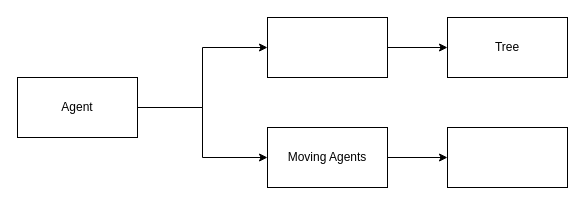
The diagram is 585 pixels wide and 205 high, and some of its shapes have lost their labels. The box of each missing label's shape, as (x1, y1, x2, y2) in pixels:
Plane: (446, 126, 568, 188)
Scenery: (266, 16, 388, 78)
